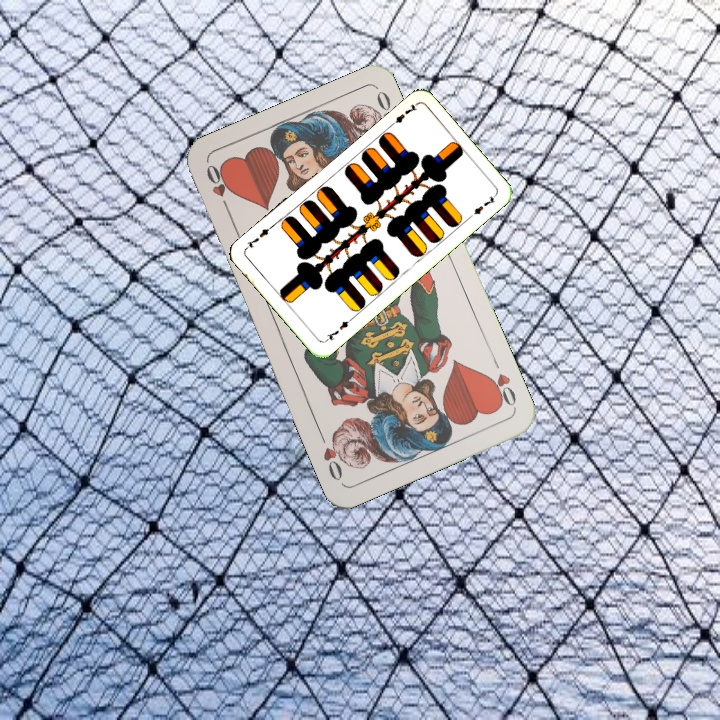E7: (385, 100, 420, 130), (321, 314, 355, 344)
HO: (484, 354, 519, 410), (202, 160, 233, 217)
